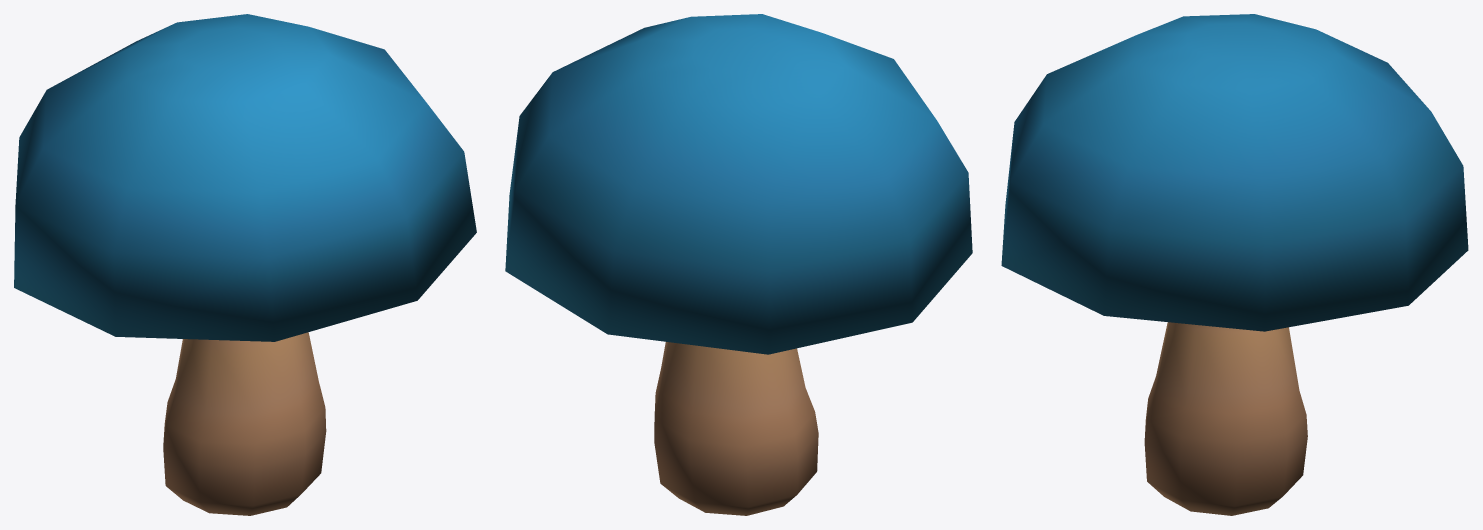
The model's file is Mushroom_2.fbx.
The picture shows the model from 3 angles, left to right: view 1: azimuth 30°, elevation 25°; view 2: azimuth 150°, elevation 25°; view 3: azimuth 270°, elevation 25°; orthographic projection.
Visible parts, largest first — view 1: Mushroom_2; view 2: Mushroom_2; view 3: Mushroom_2.
Boxes of the visible parts, x1=… form: Mushroom_2: x1=14, y1=14, x2=476, y2=515; Mushroom_2: x1=505, y1=14, x2=972, y2=515; Mushroom_2: x1=1001, y1=14, x2=1468, y2=515.
Bounding box in the file's own units: 42.28 × 44.36 × 41.86.
